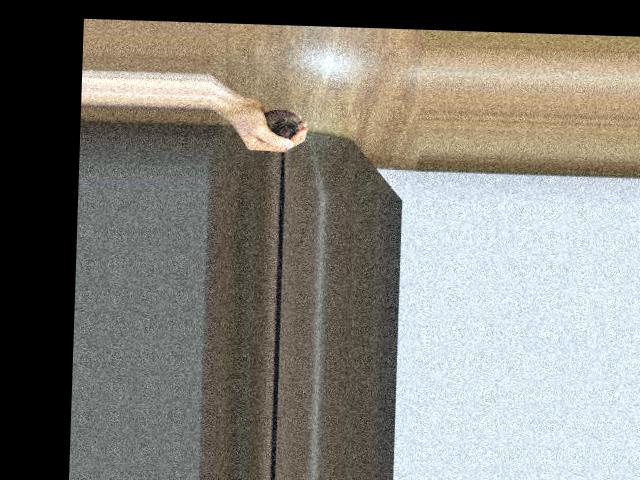beet: (262, 108, 303, 166)
